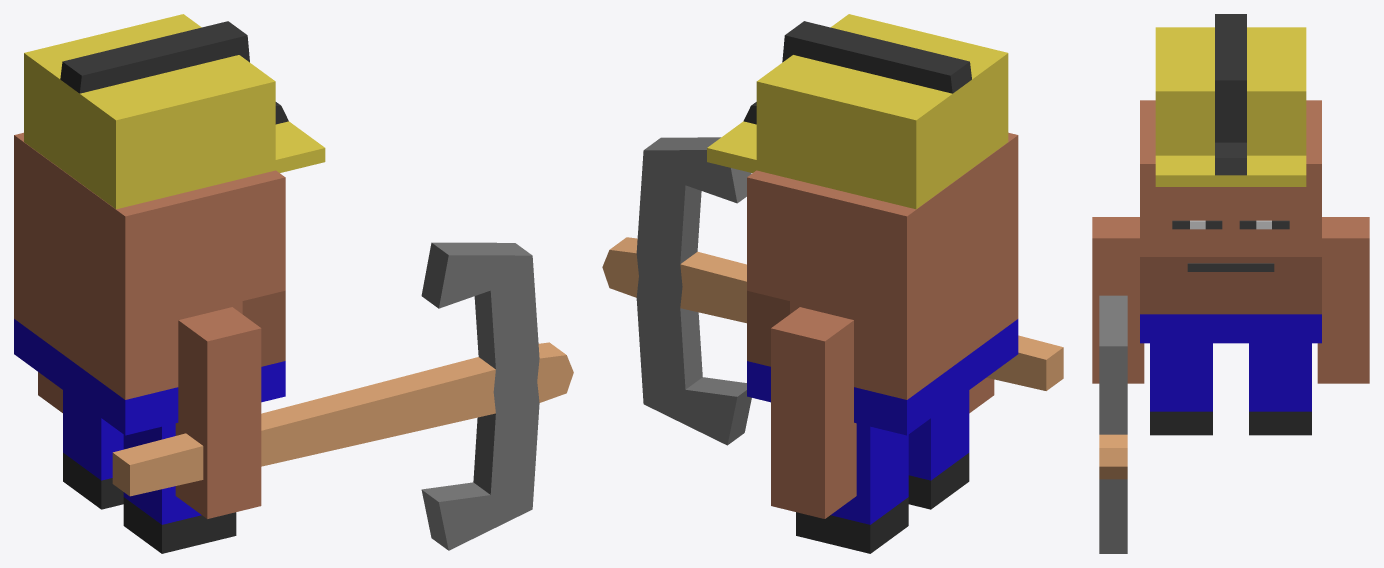
Rendered from Miner.fbx.
3 renders of one model, left to right at view 1: azimuth 30°, elevation 25°; view 2: azimuth 150°, elevation 25°; view 3: azimuth 270°, elevation 25°, orthographic. The views are drawn at different scales.
Visible parts, largest first — view 1: Cube, Cube.004, Cube.003, Cube.014, Cube.015, Cube.002; view 2: Cube, Cube.003, Cube.004, Cube.001, Cube.002, Cube.015, Cube.014; view 3: Cube, Cube.003, Cube.001, Cube.004, Cube.002, Cube.015, Cube.014, Cube.005, Cube.018, Cube.019.
Boxes of the visible parts, x1,y1,x2,y2 form: Cube: (14,132,285,435); Cube.004: (112,242,573,550); Cube.003: (24,14,325,209); Cube.014: (175,307,261,518); Cube.015: (123,423,236,553); Cube.002: (63,390,123,509); Cube: (747,132,1018,435); Cube.003: (707,14,1008,209); Cube.004: (602,137,1063,445); Cube.001: (771,307,856,518); Cube.002: (796,423,908,553); Cube.015: (908,390,969,509); Cube.014: (969,377,994,413); Cube: (1140,100,1321,343); Cube.003: (1155,14,1306,186); Cube.001: (1317,217,1369,383); Cube.004: (1099,295,1127,553); Cube.002: (1249,343,1311,435); Cube.015: (1150,343,1212,435); Cube.014: (1092,217,1144,383); Cube.005: (1187,263,1274,271); Cube.018: (1239,220,1289,229); Cube.019: (1172,220,1222,229).
Bounding box in the file's own units: 2.48 × 2.64 × 1.64.
